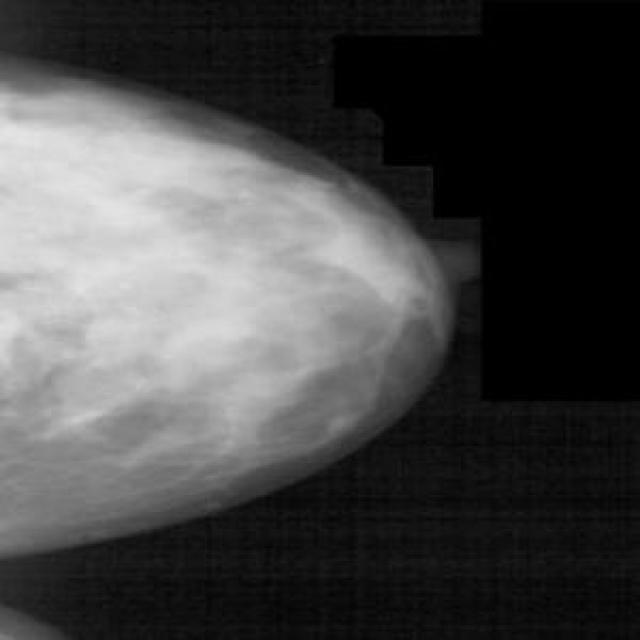tumor: (72, 199, 312, 428)
